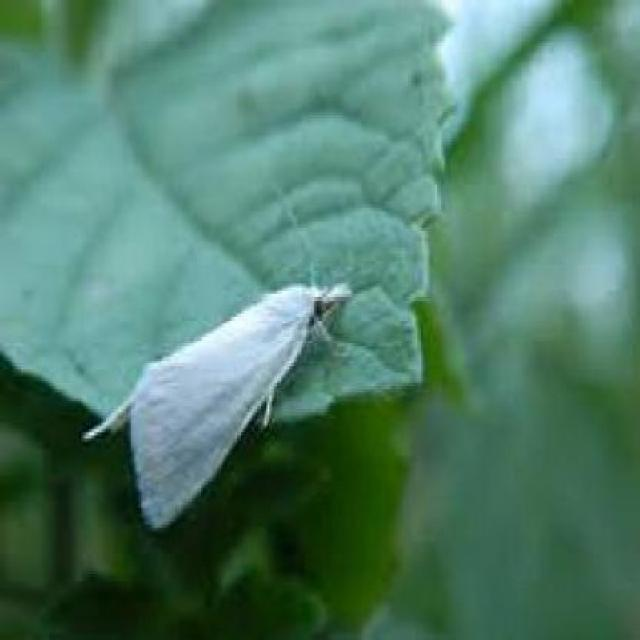stem-borer: (80, 274, 355, 535)
